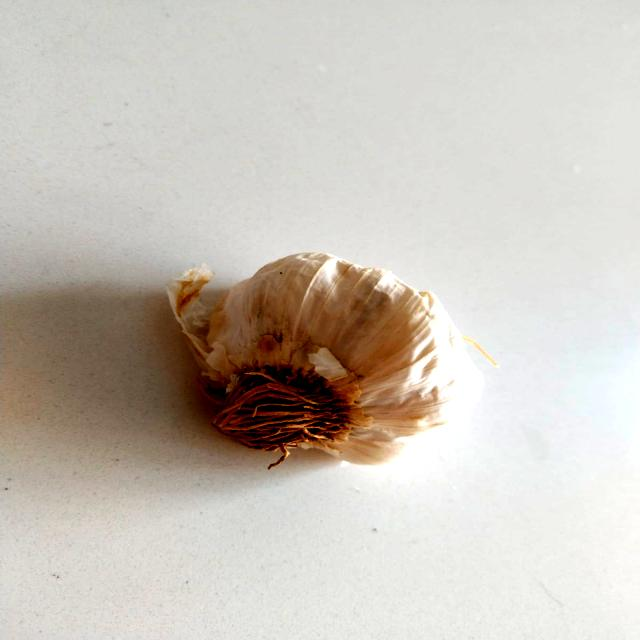garlic: (148, 245, 523, 484)
